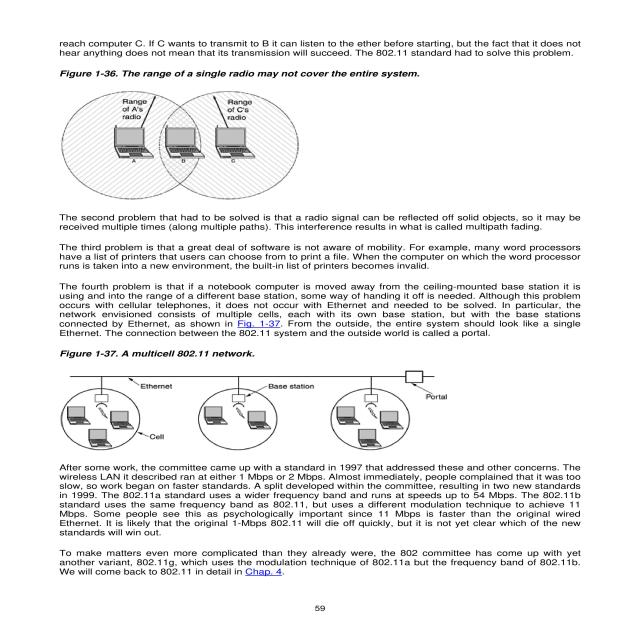diagram: (33, 58, 420, 204), (48, 345, 461, 454)
